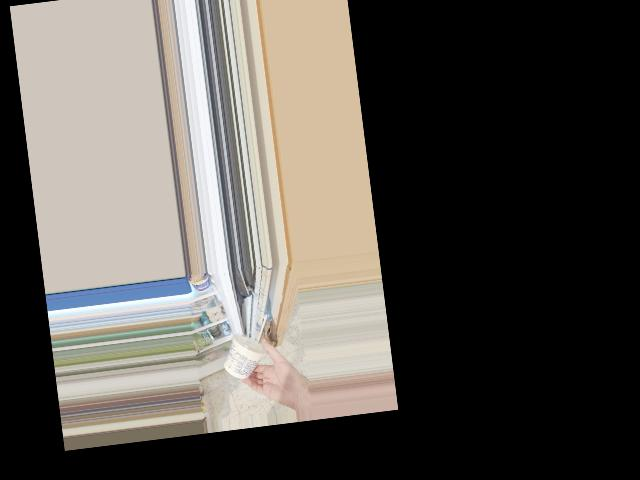cotage: (225, 332, 273, 382)
